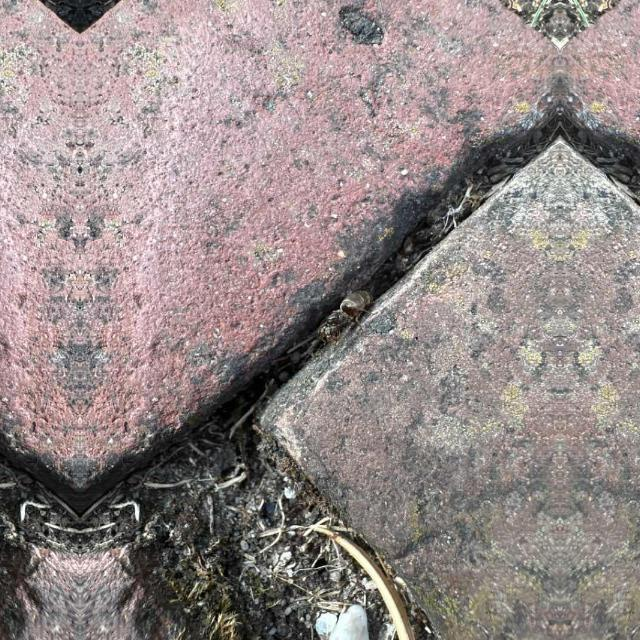Lasius: (312, 290, 373, 354)
